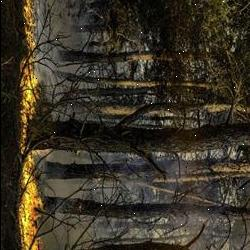fire: (10, 0, 48, 248)
